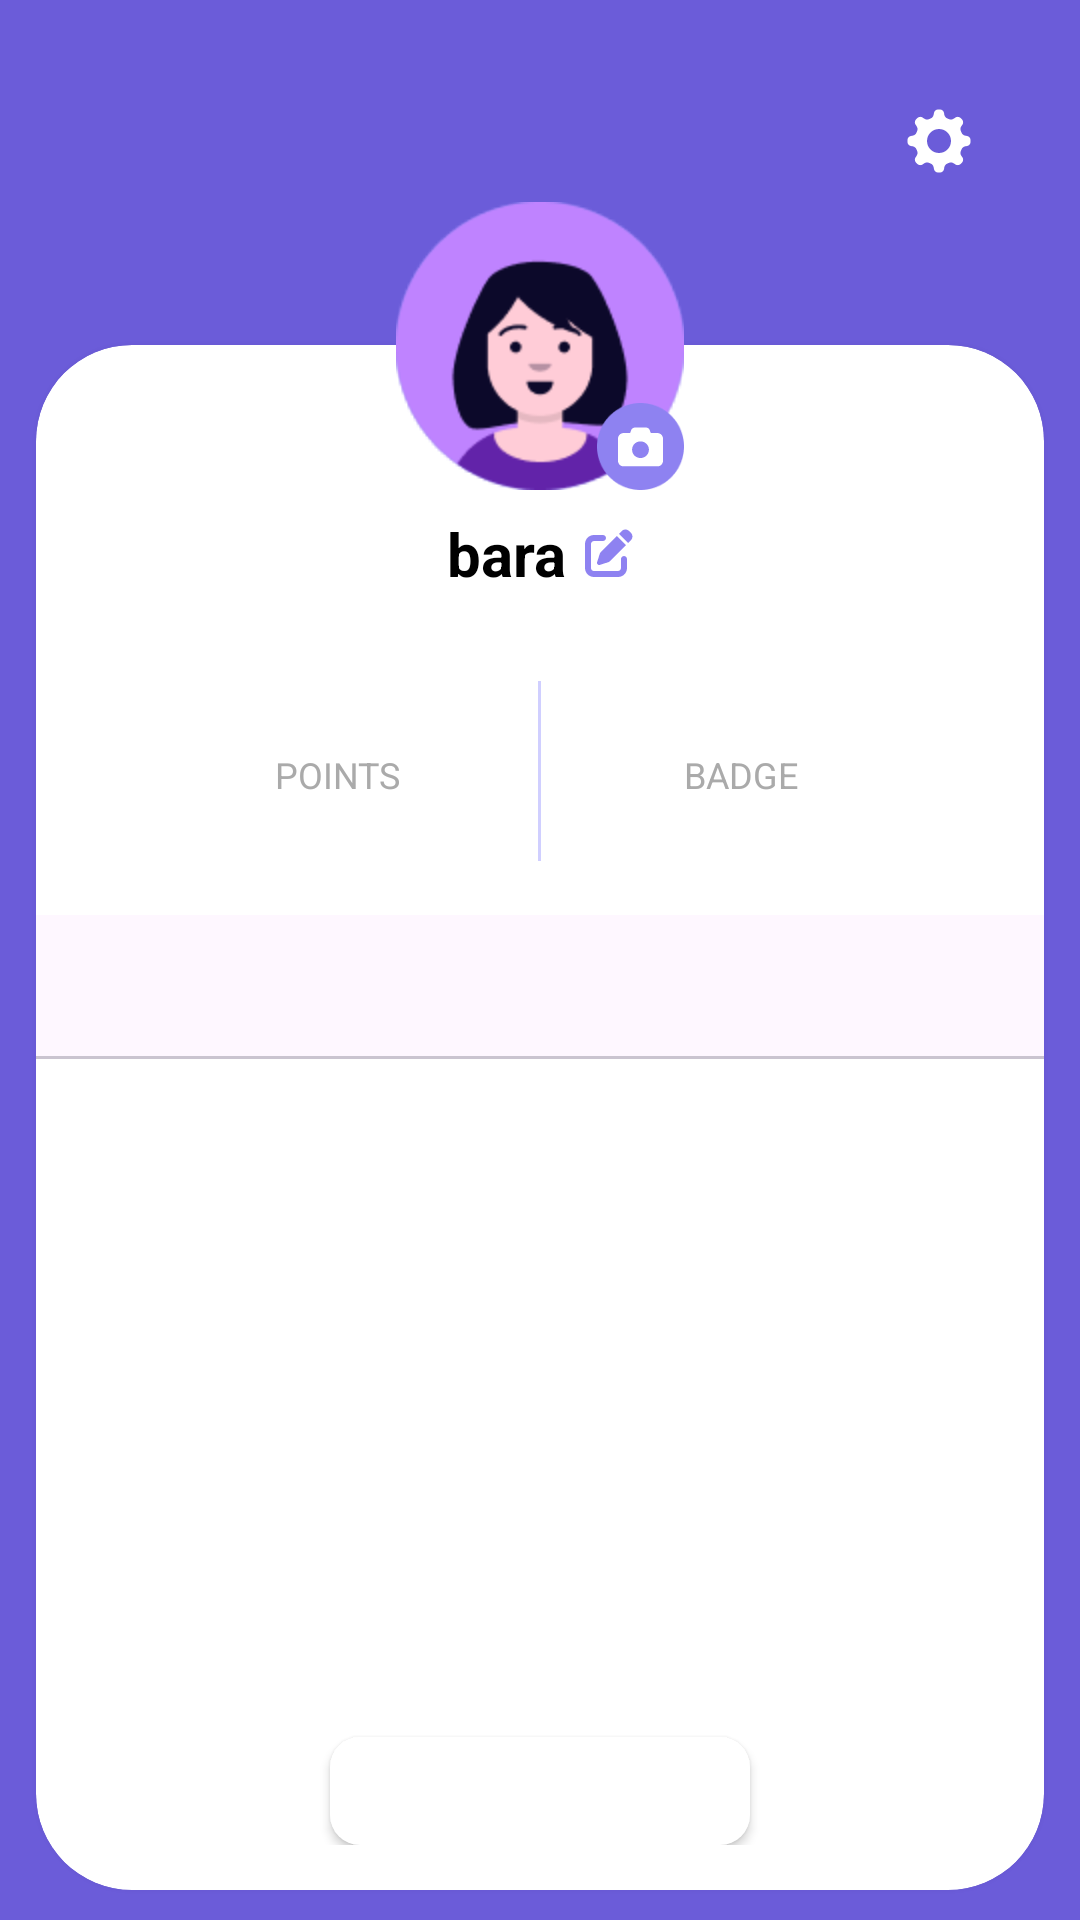

Screen size 1080w x 1920h. Icon name, then its box in pixels as (x1, y1, x2, y2):
edit: (585, 529, 633, 577)
setting: (907, 109, 971, 173)
